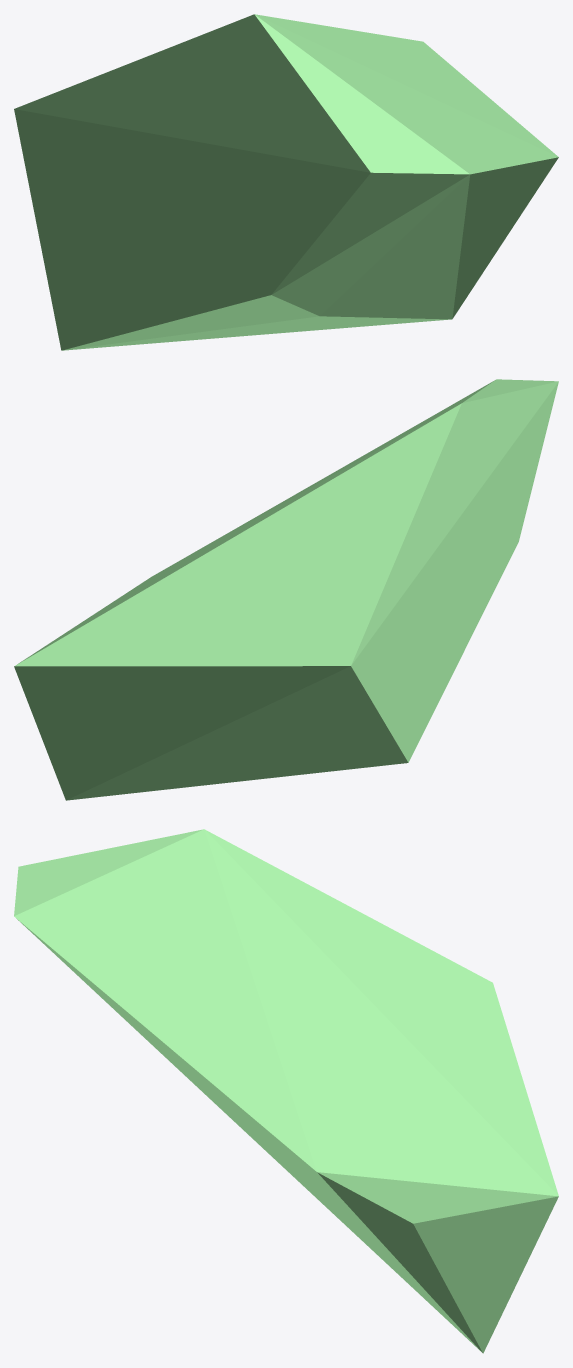
Rendered from UMIRobot_UMIRobot_link_4_convex_coll_11.dae.
3 renders of one model, top to bottom at view 1: azimuth 30°, elevation 25°; view 2: azimuth 150°, elevation 25°; view 3: azimuth 270°, elevation 25°, orthographic. The views are drawn at different scales.
Visible parts, largest first — view 1: node; view 2: node; view 3: node.
Part boxes in pixels (x1,y1,x2,y2): node: [14, 14, 558, 350]; node: [14, 379, 558, 800]; node: [14, 829, 558, 1353].
Bounding box in the file's own units: 0.0136 × 0.0149 × 0.019.
